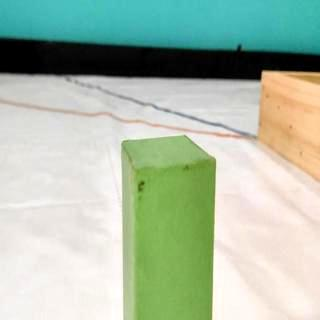greenbox: (119, 132, 216, 318)
